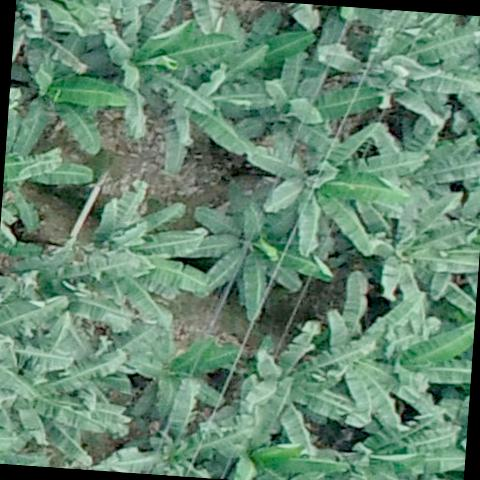Banana-plant: (242, 117, 409, 264), (181, 178, 336, 330), (216, 41, 390, 163), (322, 270, 448, 434), (0, 309, 134, 461), (96, 0, 237, 142), (240, 316, 381, 452), (5, 30, 136, 174), (88, 181, 220, 323), (318, 20, 480, 132), (10, 0, 154, 96), (370, 187, 480, 307), (368, 117, 480, 215), (129, 328, 239, 422)
